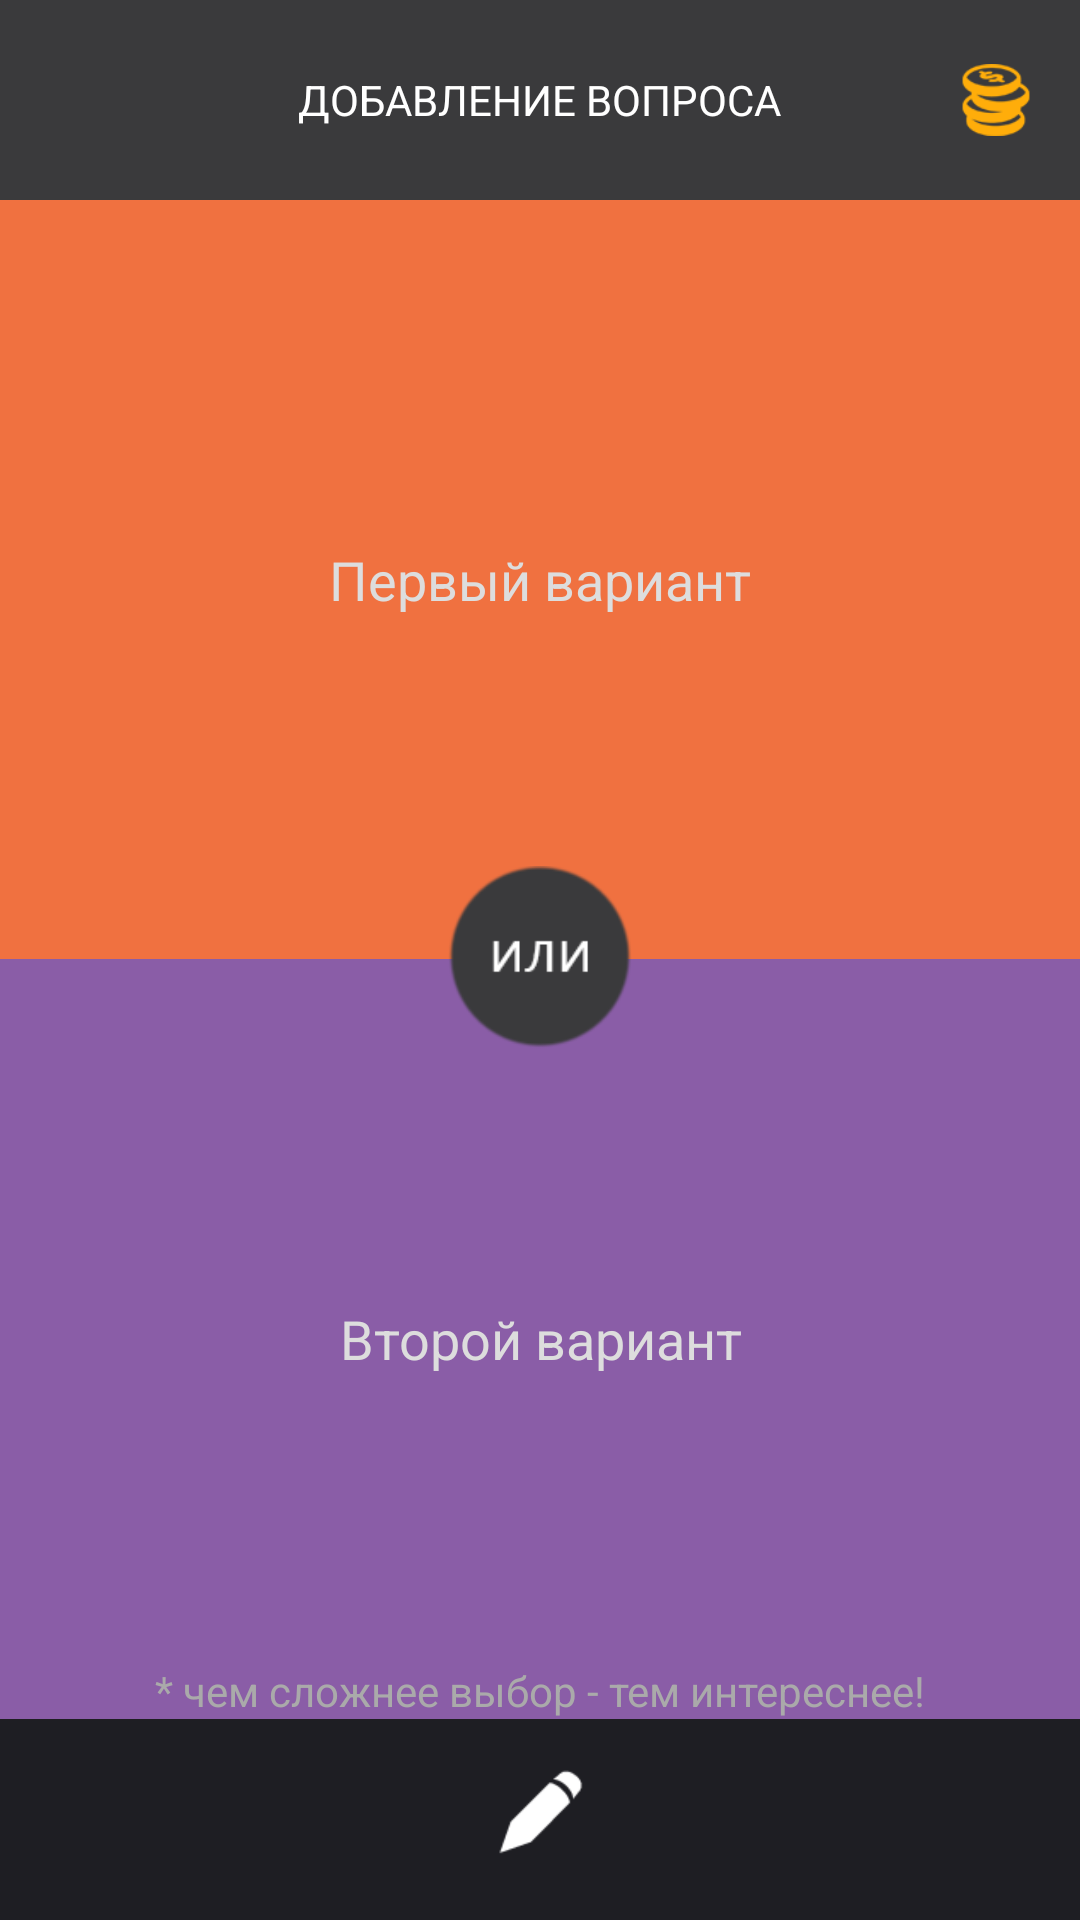

Icon click points for this 1080x1920 phone screenshot, format [x,y]:
coin: [996,100]
